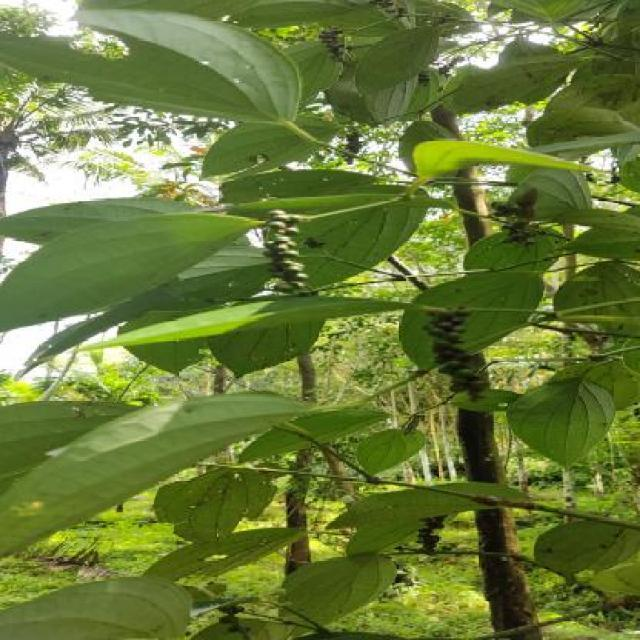UNRIPE: (423, 309, 491, 400), (260, 211, 305, 294), (482, 204, 544, 245), (413, 513, 450, 555), (319, 28, 353, 64), (340, 133, 360, 162)
